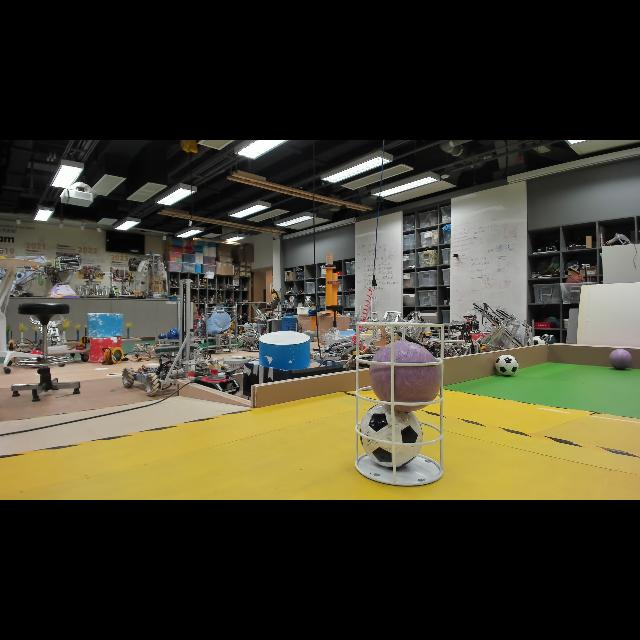P: (368, 338, 444, 414), (606, 348, 634, 372)
S: (350, 318, 448, 490)
